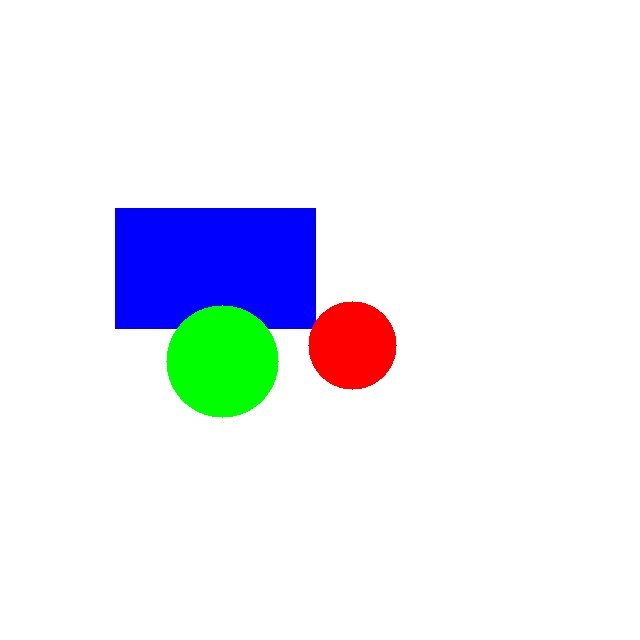cartao: (115, 208, 315, 328)
rosca_externa: (166, 305, 278, 417)
rosca_interna: (308, 301, 396, 389)
